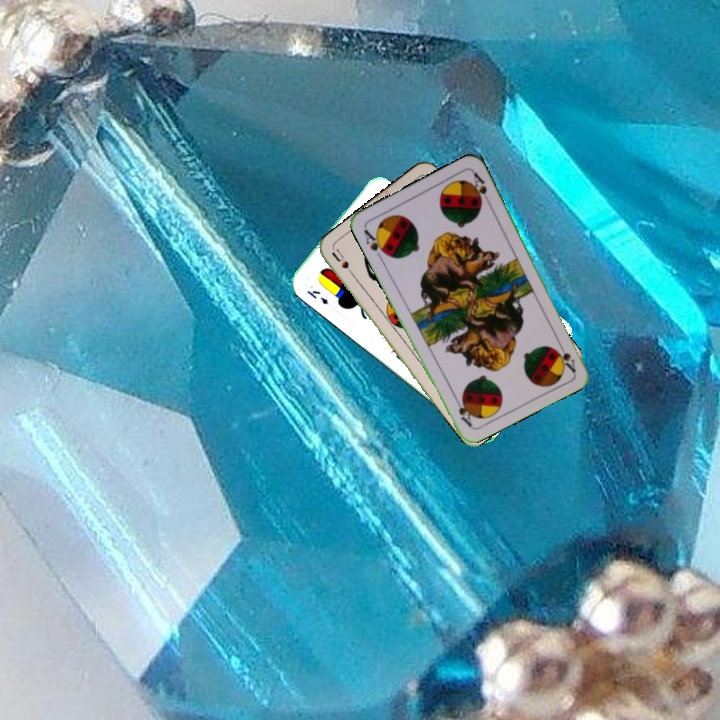EK: (303, 286, 331, 307)
SA: (360, 225, 390, 258), (554, 336, 578, 375)
SU: (328, 246, 359, 282)
